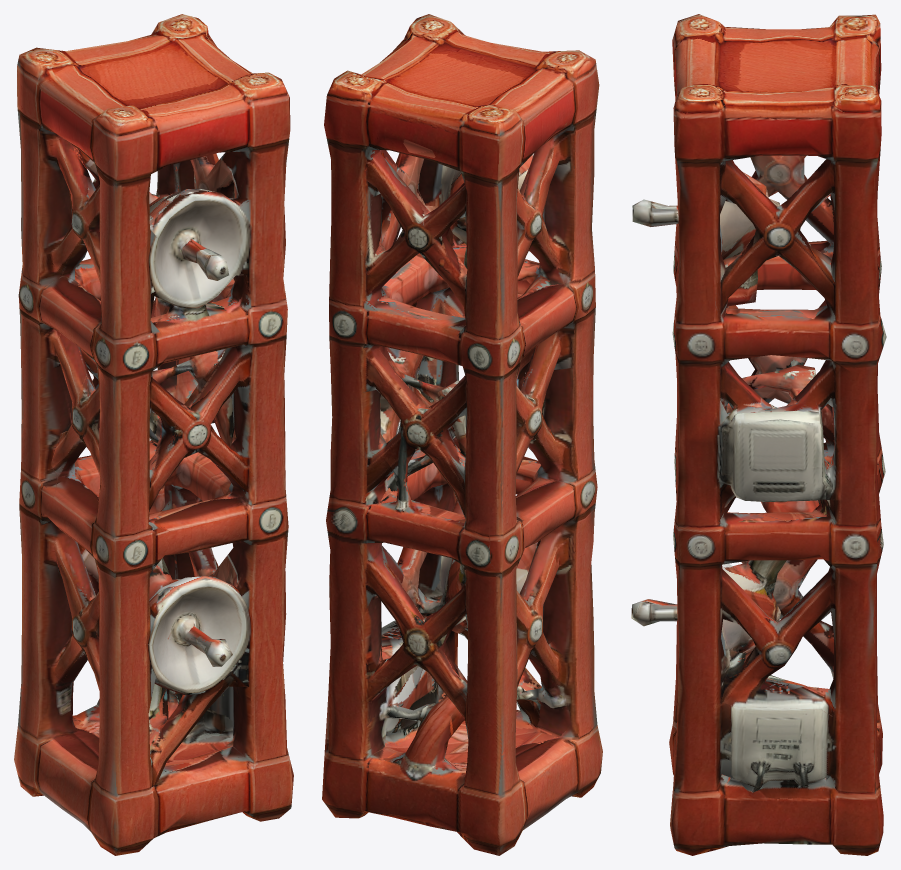
Rendered from 남산_하부안테나_빨강.glb.
3 renders of one model, left to right at view 1: azimuth 30°, elevation 25°; view 2: azimuth 150°, elevation 25°; view 3: azimuth 270°, elevation 25°, orthographic. The views are drawn at different scales.
Parts seen in each view (by area): view 1: texture_mapping; view 2: texture_mapping; view 3: texture_mapping.
Boxes of the visible parts, x1,y1,x2,y2 form: texture_mapping: (14, 14, 293, 855); texture_mapping: (322, 14, 602, 855); texture_mapping: (631, 14, 886, 855).
Size of the model in its own units: 0.2844 by 1 by 0.3072.
Materials: 1 (1 with a texture image).
